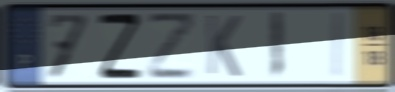7: (46, 11, 90, 81)
I: (268, 10, 286, 82), (330, 10, 346, 81)
K: (204, 12, 243, 80)
Z: (146, 10, 198, 82), (96, 11, 143, 82)
